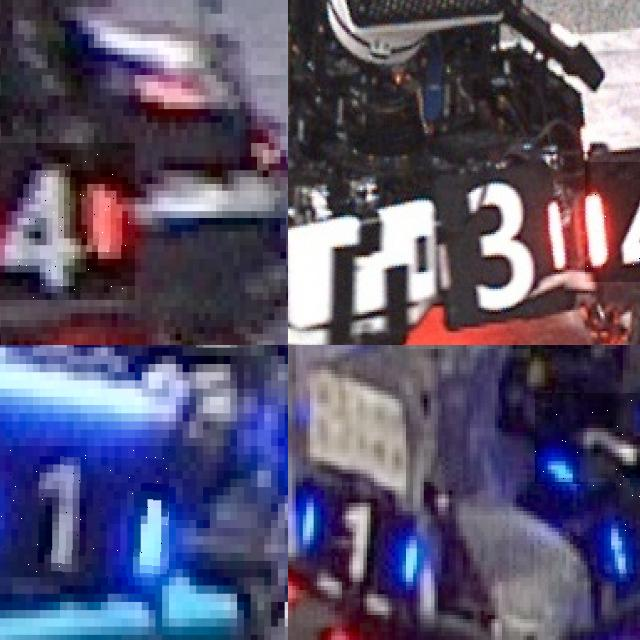B1: (0, 445, 169, 577), (288, 498, 421, 590), (535, 392, 640, 484), (589, 477, 640, 569)
R4: (0, 143, 134, 299), (585, 162, 640, 282)
